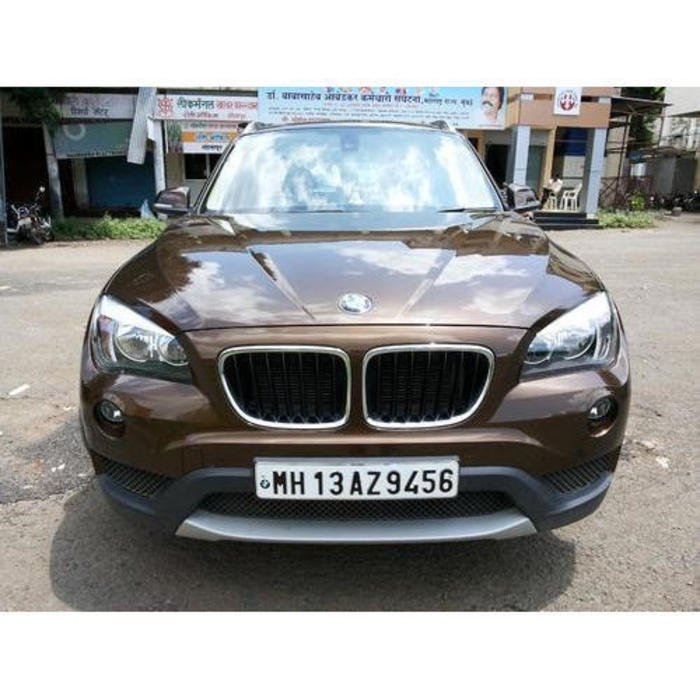n: (252, 457, 459, 498)
